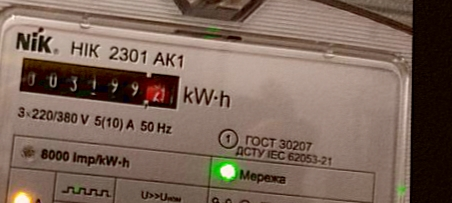0: (23, 67, 37, 86), (46, 68, 58, 87)
1: (88, 70, 98, 89)
3: (67, 73, 77, 92)
6: (150, 88, 160, 104)
9: (128, 79, 139, 97), (108, 74, 118, 92)
screen: (12, 52, 186, 115)
